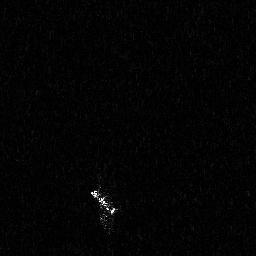ship: (87, 176, 118, 235)
